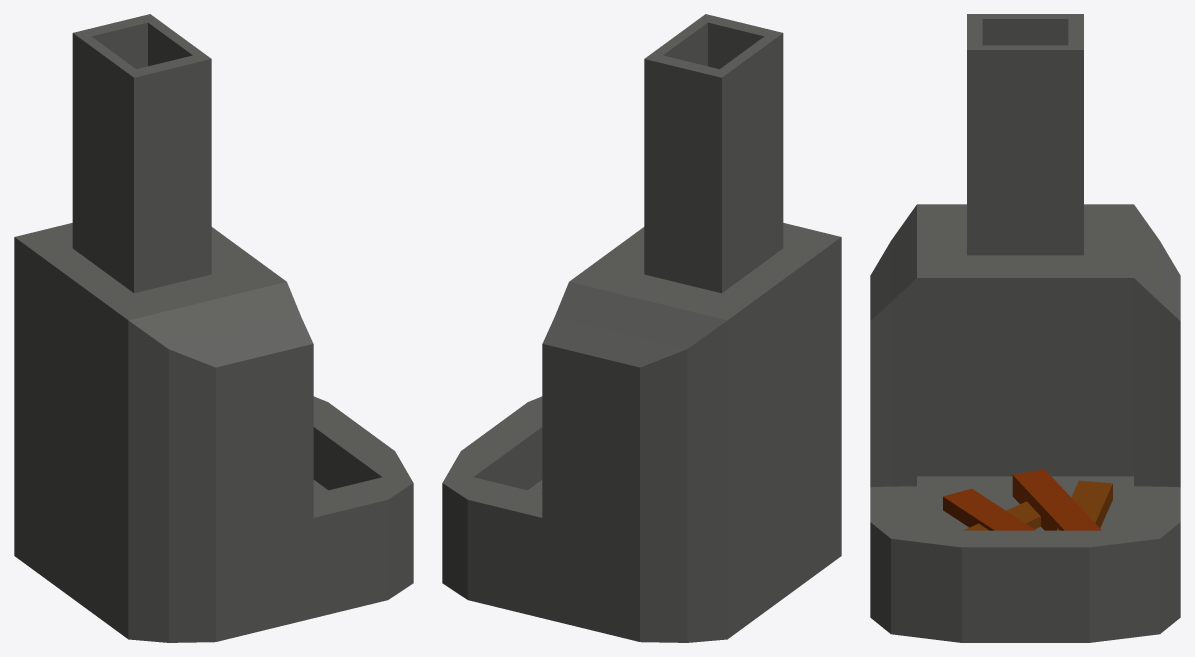
Rendered from forge.fbx.
3 renders of one model, left to right at view 1: azimuth 30°, elevation 25°; view 2: azimuth 150°, elevation 25°; view 3: azimuth 270°, elevation 25°, orthographic. The views are drawn at different scales.
Visible parts, largest first — view 1: Cube.005; view 2: Cube.005; view 3: Cube.005, Cube.006.
Boxes of the visible parts, bbox=[...] form: Cube.005: bbox=[14, 14, 413, 642]; Cube.005: bbox=[442, 14, 841, 642]; Cube.005: bbox=[870, 14, 1180, 642]; Cube.006: bbox=[943, 469, 1112, 530].
Bounding box in the file's own units: 725 × 1277 × 706.
